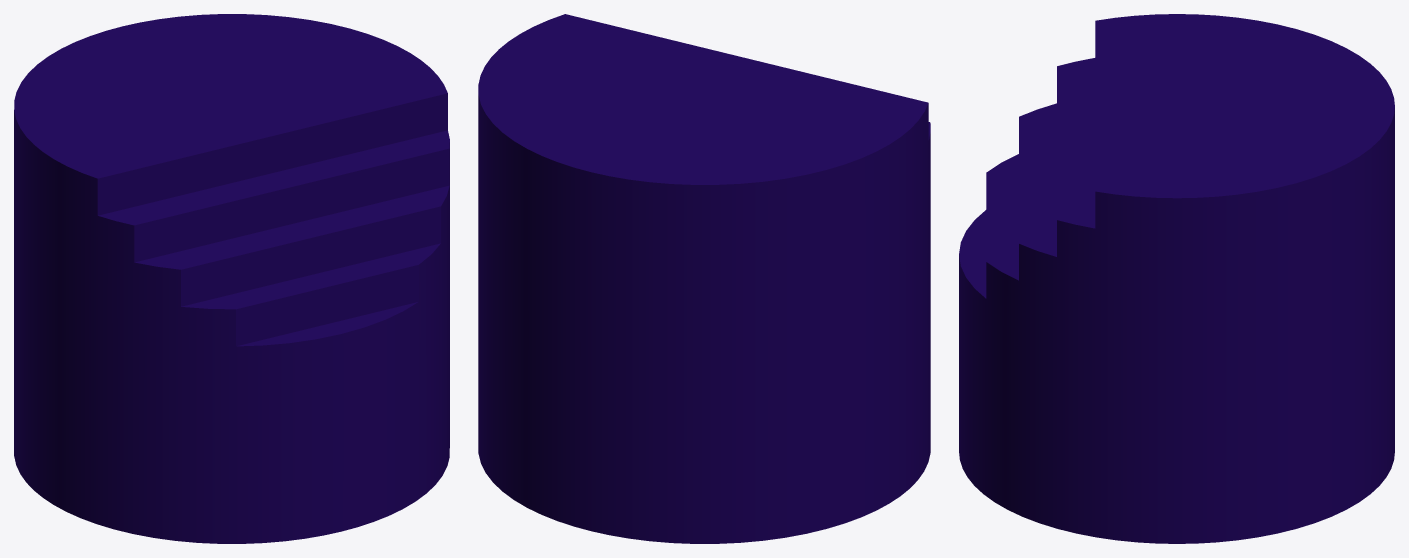
File: pedestal.glb
3 renders of one model, left to right at view 1: azimuth 30°, elevation 25°; view 2: azimuth 150°, elevation 25°; view 3: azimuth 270°, elevation 25°, orthographic. The views are drawn at different scales.
Visible parts, largest first — view 1: Body1; view 2: Body1; view 3: Body1.
Part boxes in pixels (x1,y1,x2,y2): Body1: (14, 14, 449, 543); Body1: (478, 14, 930, 543); Body1: (959, 14, 1394, 543).
Size of the model in its own units: 0.08 by 0.07 by 0.08.
